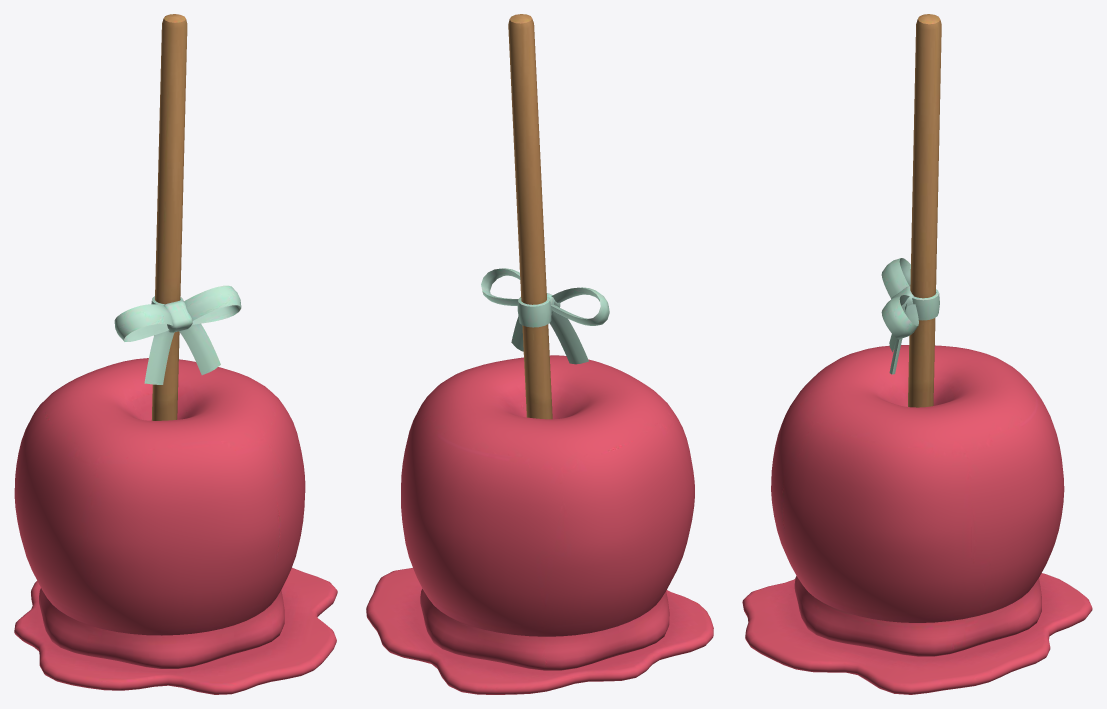
File: manzana_caramelo.glb
3 views of the same model, side by side, from view 1: azimuth 30°, elevation 25°; view 2: azimuth 150°, elevation 25°; view 3: azimuth 270°, elevation 25° (orthographic).
Visible parts, largest first — view 1: candy-apple_body; view 2: candy-apple_body; view 3: candy-apple_body.
Part boxes in pixels (left/top/right/bottom): candy-apple_body: left=14, top=14, right=337, bottom=694; candy-apple_body: left=366, top=14, right=713, bottom=694; candy-apple_body: left=742, top=14, right=1092, bottom=694.
Size of the model in its own units: 0.0994 by 0.1881 by 0.0982.
Materials: 1 (1 with a texture image).
